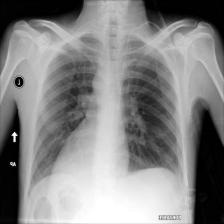normal: (24, 31, 188, 195)
